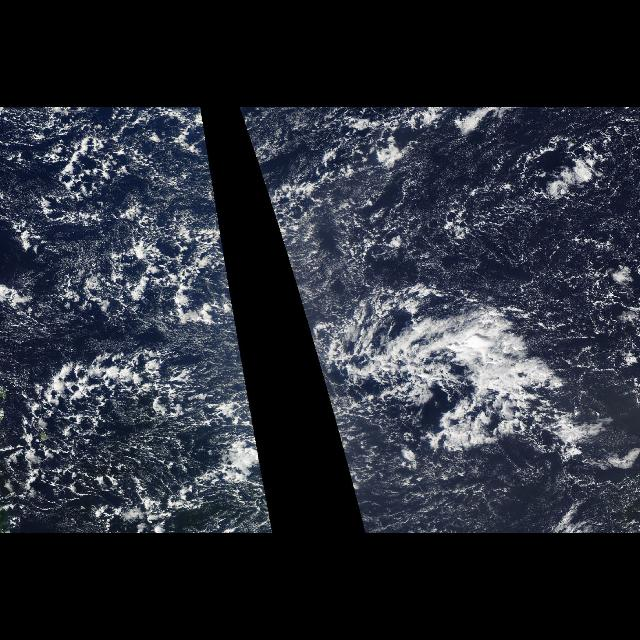Fish: (309, 270, 639, 476)
Gravel: (239, 107, 639, 531), (0, 107, 274, 531)
Sugar: (488, 192, 632, 342), (372, 464, 530, 534)
